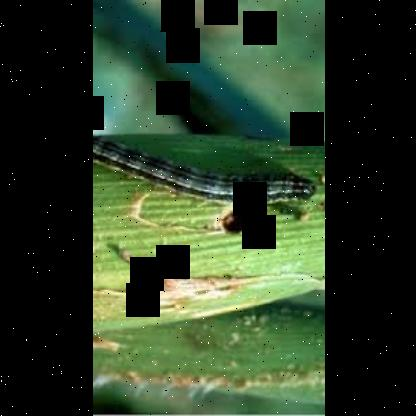oruga: (91, 136, 319, 206)
